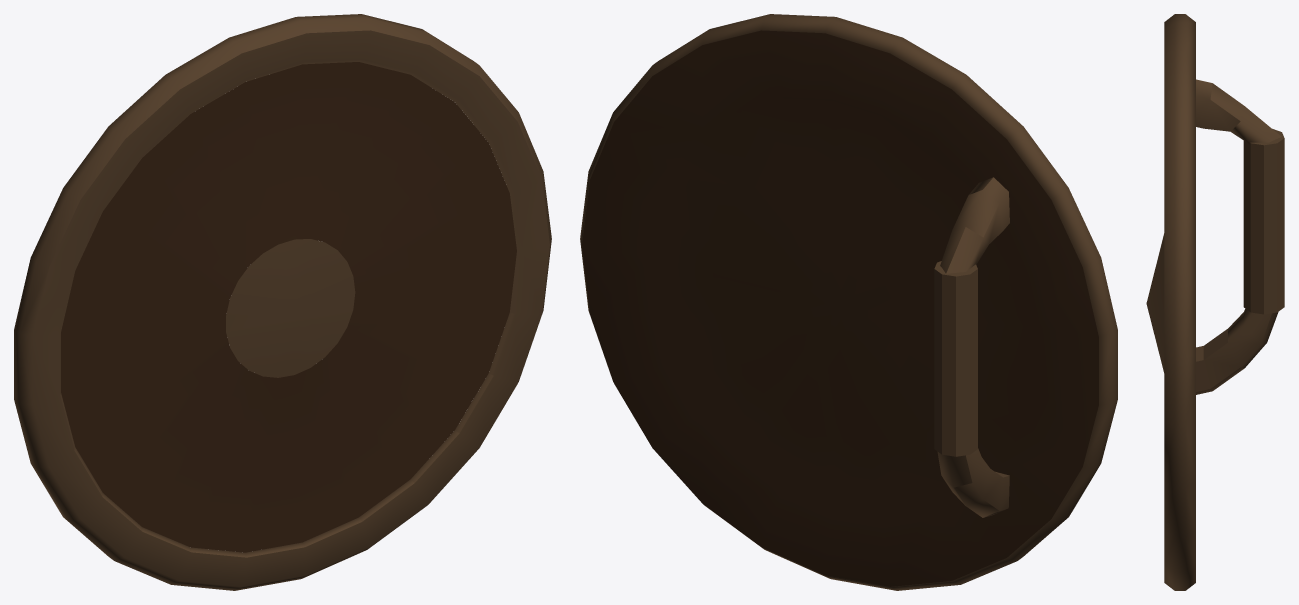
The picture shows the model from 3 angles, left to right: view 1: azimuth 30°, elevation 25°; view 2: azimuth 150°, elevation 25°; view 3: azimuth 270°, elevation 25°; orthographic projection. The views are drawn at different scales.
Visible parts, largest first — view 1: SM_Shield_Small_01_LOD0; view 2: SM_Shield_Small_01_LOD0; view 3: SM_Shield_Small_01_LOD0.
Boxes of the visible parts, x1,y1,x2,y2 form: SM_Shield_Small_01_LOD0: (14, 14, 551, 590); SM_Shield_Small_01_LOD0: (580, 14, 1117, 590); SM_Shield_Small_01_LOD0: (1146, 14, 1284, 590).
Size of the model in its own units: 0.6539 by 0.6551 by 0.1565.
